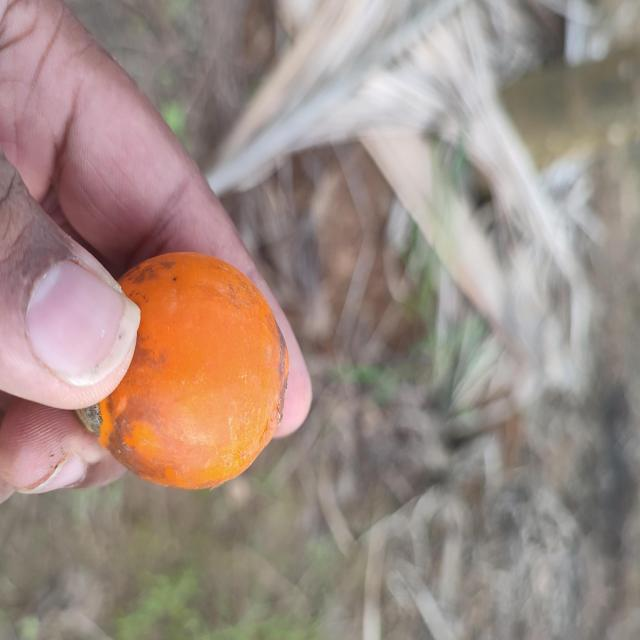good: (75, 252, 290, 491)
